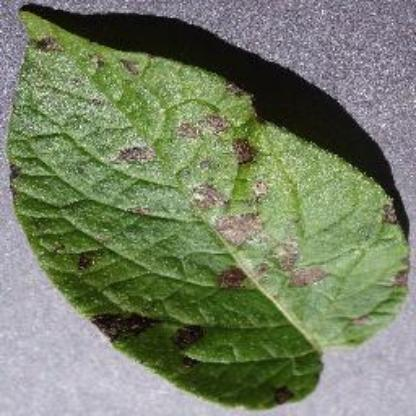Early-Blight: (10, 5, 410, 407)
